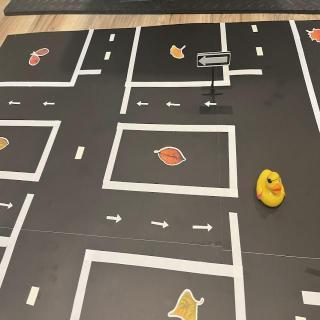duck_specialty: (255, 165, 287, 211)
road_oneway: (193, 223, 215, 235), (151, 219, 171, 232), (106, 212, 124, 226), (1, 200, 15, 212), (166, 100, 182, 110), (136, 100, 151, 110), (205, 99, 219, 109), (8, 100, 22, 108), (43, 100, 57, 108)
sign_oneway_left: (197, 54, 231, 69)
